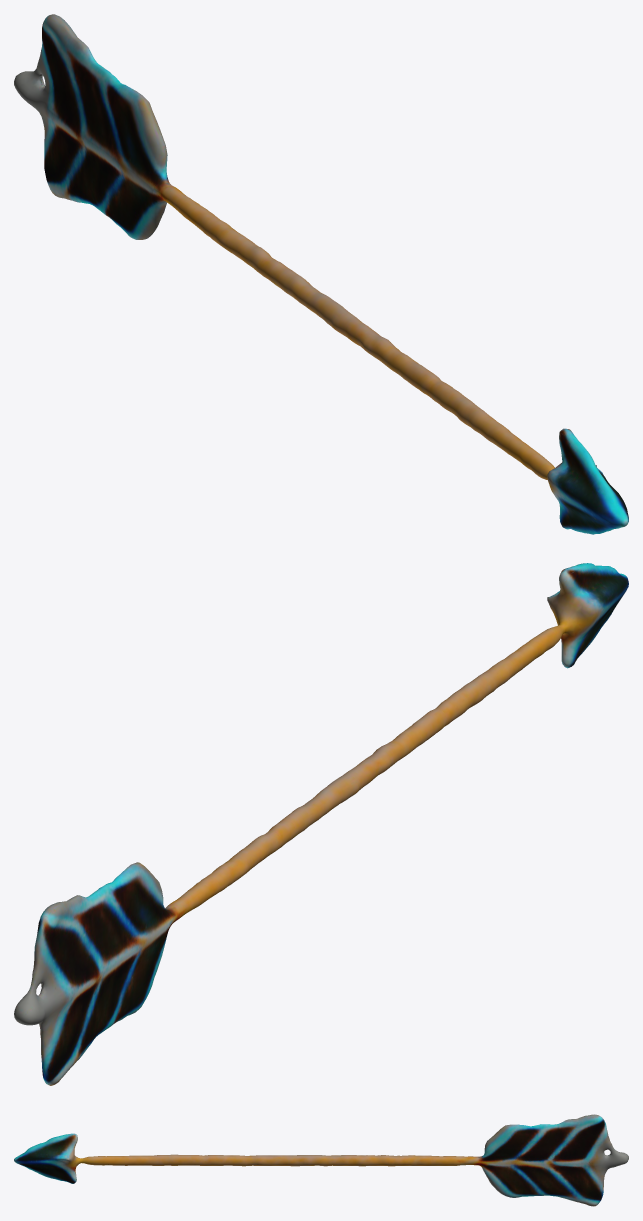
Rendered from a422dac1e5b8_arrow_min.fbx.
The picture shows the model from 3 angles, top to bottom: view 1: azimuth 30°, elevation 25°; view 2: azimuth 150°, elevation 25°; view 3: azimuth 270°, elevation 25°; orthographic projection. The views are drawn at different scales.
Visible parts, largest first — view 1: mesh; view 2: mesh; view 3: mesh.
Part boxes in pixels (box(x1,y1,x2,y2)): mesh: box(14, 14, 628, 534); mesh: box(14, 563, 628, 1085); mesh: box(14, 1114, 628, 1206).
Bounding box in the file's own units: 4.54 × 16.29 × 99.54.
